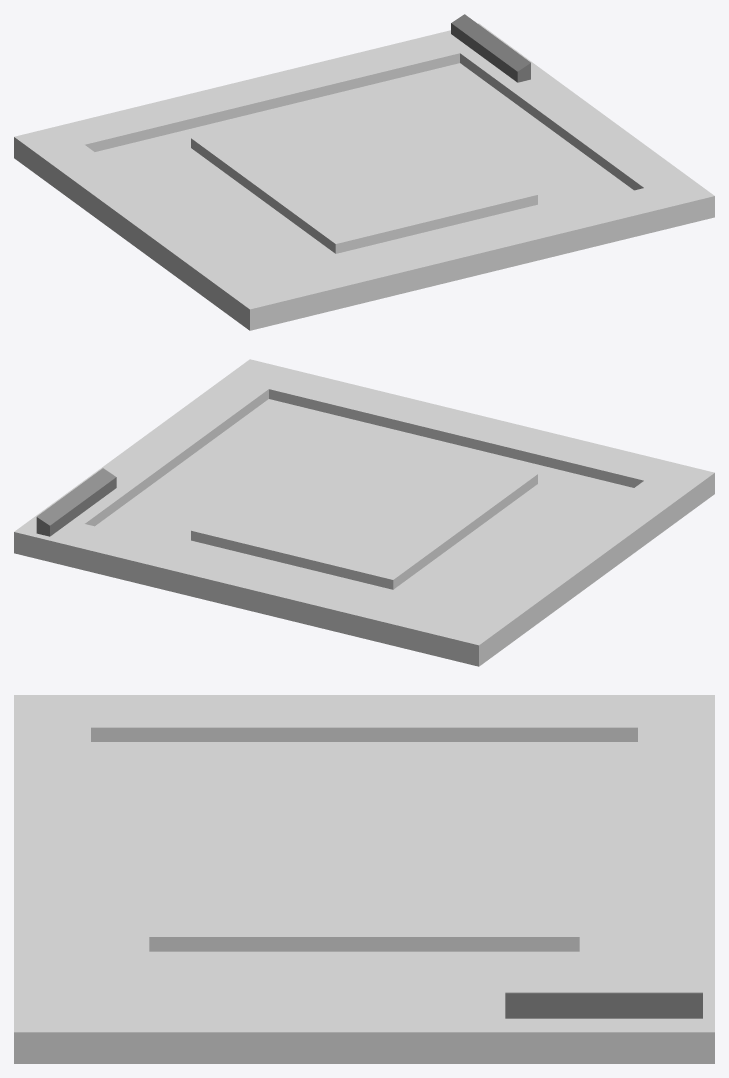
Rendered from Counter_Door_1.glb.
3 views of the same model, one above another, from view 1: azimuth 30°, elevation 25°; view 2: azimuth 150°, elevation 25°; view 3: azimuth 270°, elevation 25° (orthographic). The views are drawn at different scales.
Visible parts, largest first — view 1: Counter Door 1; view 2: Counter Door 1; view 3: Counter Door 1.
Boxes of the visible parts, box(x1,y1,x2,y2) form: Counter Door 1: box(14, 14, 714, 330); Counter Door 1: box(14, 359, 714, 666); Counter Door 1: box(14, 695, 714, 1063).
Size of the model in its own units: 0.9456 by 0.074 by 0.8309.
1 material, 1 textured.
